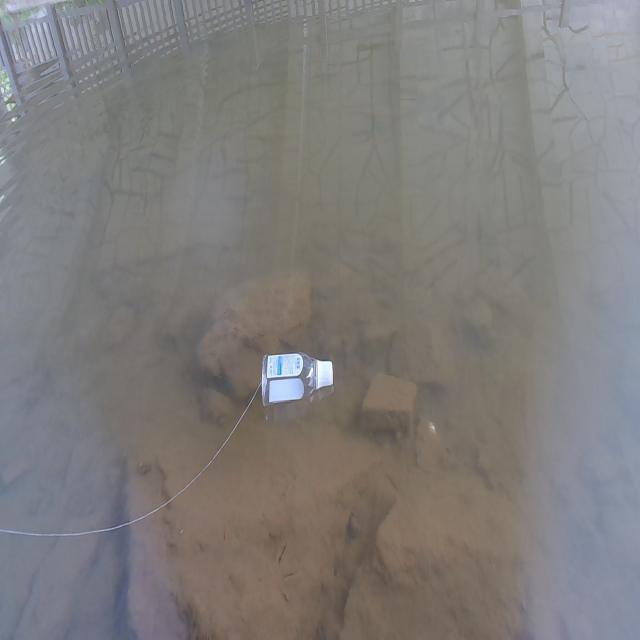bottle: (255, 346, 343, 408)
